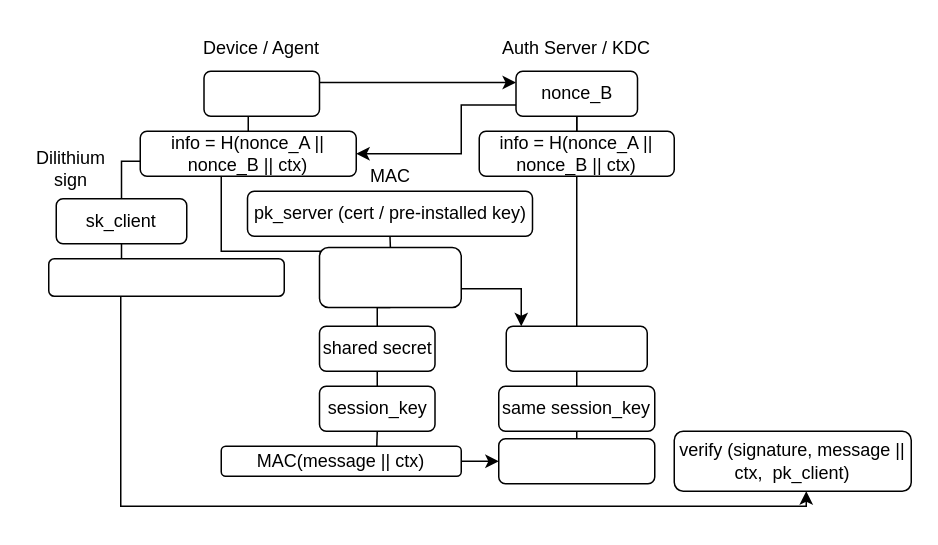
Image size: 938x545. Some labels were removed from this diagram. Each missing label, with the centre of its shape:
check МАС: point (576, 460)
KEM Decaps: point (576, 348)
KEM encaps(pk, info): point (389, 277)
nonce_A: point (261, 93)
sign(message || ctx): point (165, 276)
